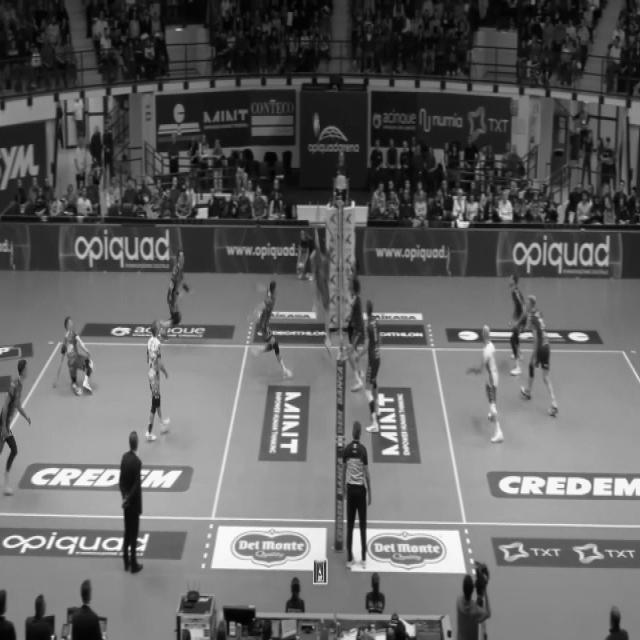volleyball court: (1, 340, 638, 523)
